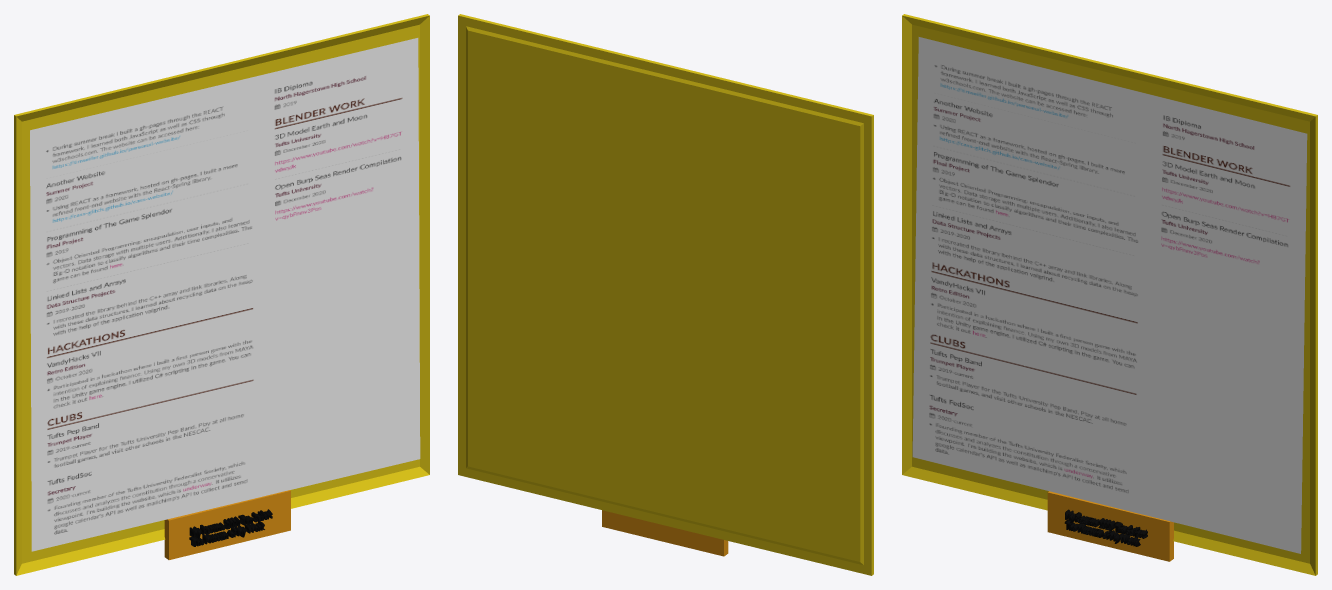
The model's file is painting2.glb.
The picture shows the model from 3 angles, left to right: view 1: azimuth 30°, elevation 25°; view 2: azimuth 150°, elevation 25°; view 3: azimuth 330°, elevation 25°; orthographic projection.
Visible parts, largest first — view 1: Screen Shot 2021-01-07 at 1.57.38 PM, Cube, Cube.001, Text; view 2: Cube, Cube.001; view 3: Screen Shot 2021-01-07 at 1.57.38 PM, Cube, Cube.001, Text.
Part boxes in pixels (left/top/right/bottom): Screen Shot 2021-01-07 at 1.57.38 PM: left=30, top=38, right=420, bottom=551; Cube: left=14, top=14, right=429, bottom=575; Cube.001: left=164, top=490, right=290, bottom=559; Text: left=189, top=509, right=272, bottom=546; Cube: left=458, top=14, right=873, bottom=575; Cube.001: left=602, top=510, right=728, bottom=556; Screen Shot 2021-01-07 at 1.57.38 PM: left=912, top=37, right=1307, bottom=553; Cube: left=902, top=14, right=1317, bottom=575; Cube.001: left=1047, top=491, right=1173, bottom=561; Text: left=1064, top=509, right=1147, bottom=546.
Size of the model in its own units: 61.33 by 67.65 by 2.66.
Materials: 4 (1 with a texture image).
